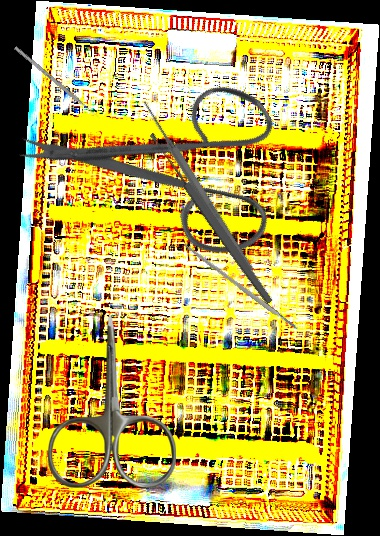Iris Scissors: (10, 19, 323, 326), (48, 315, 176, 488)
Pusher: (139, 98, 256, 275), (13, 45, 102, 121)
Scalpel Handle: (182, 242, 299, 332)
Surgical Spoon: (147, 130, 275, 306)
